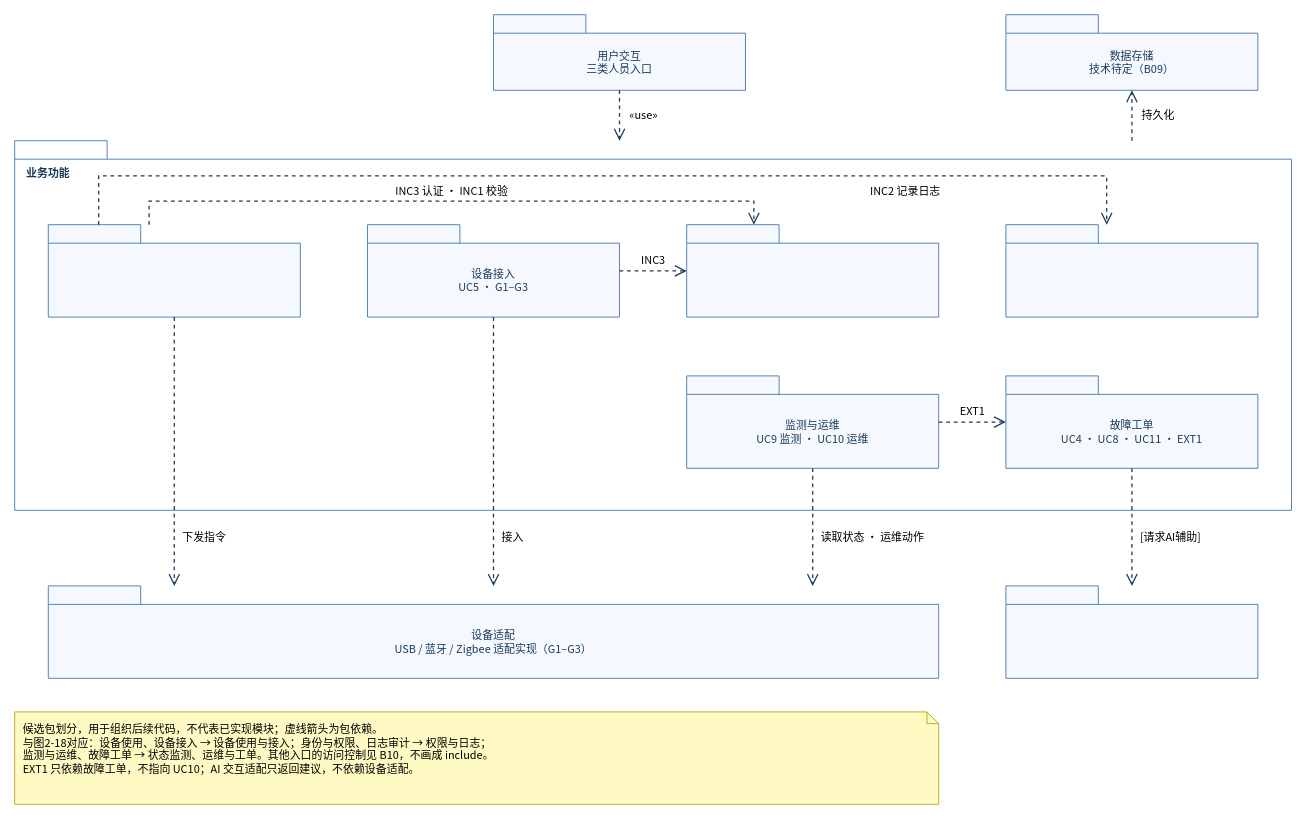
The diagram is 1306 pixels wide and 819 high, and some of its shapes have lost their labels. The centre of each missing label's shape, as x and y in pixels:
"AI 交互适配 EXT2" goes at [1131,631].
"日志审计 INC2 记录 · UC7 审计" goes at [1131,270].
"设备使用 UC1 申请 · UC2 操作 · UC3 查看状态" goes at [173,270].
"身份与权限 INC3 认证 · INC1 校验 · UC6 分配" goes at [812,270].
